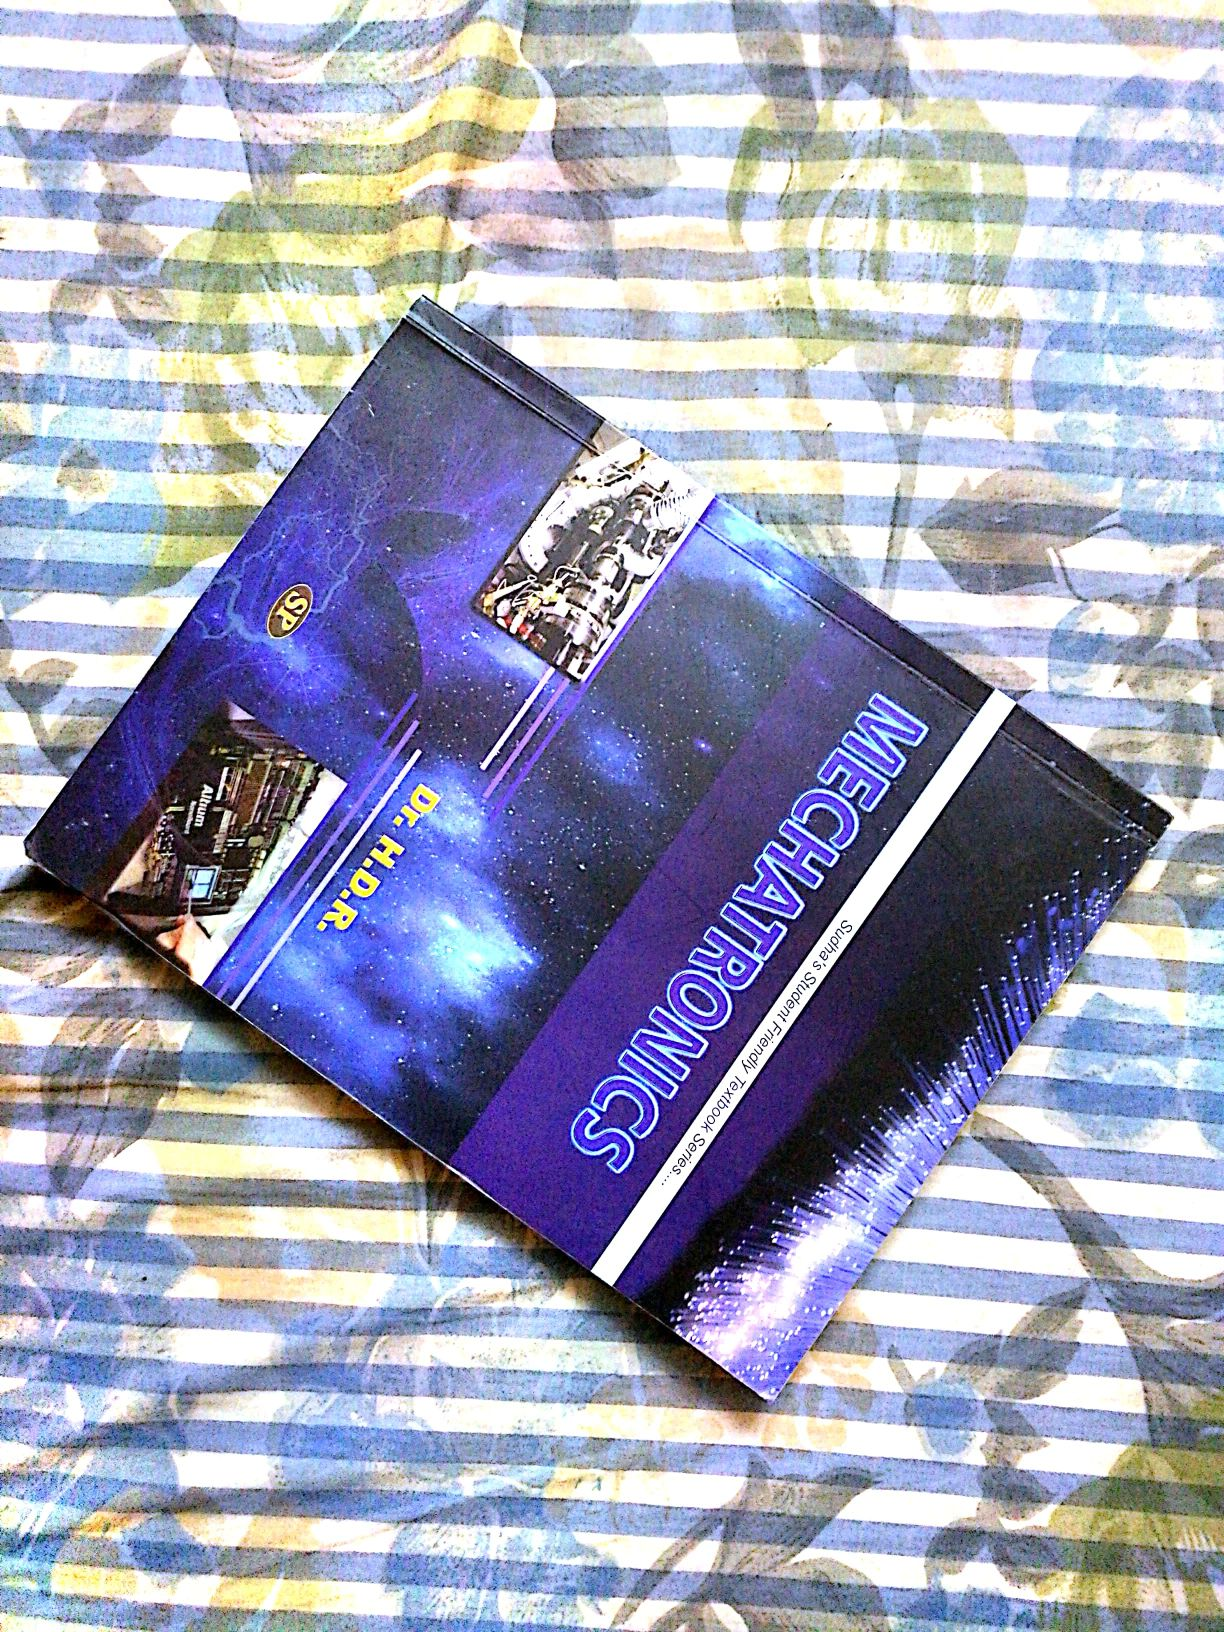mechatronics: (44, 348, 1153, 1353)
